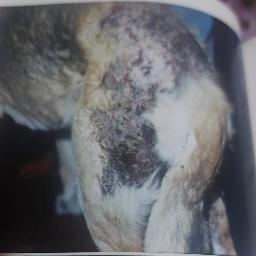pyoderma: (91, 98, 171, 194)
